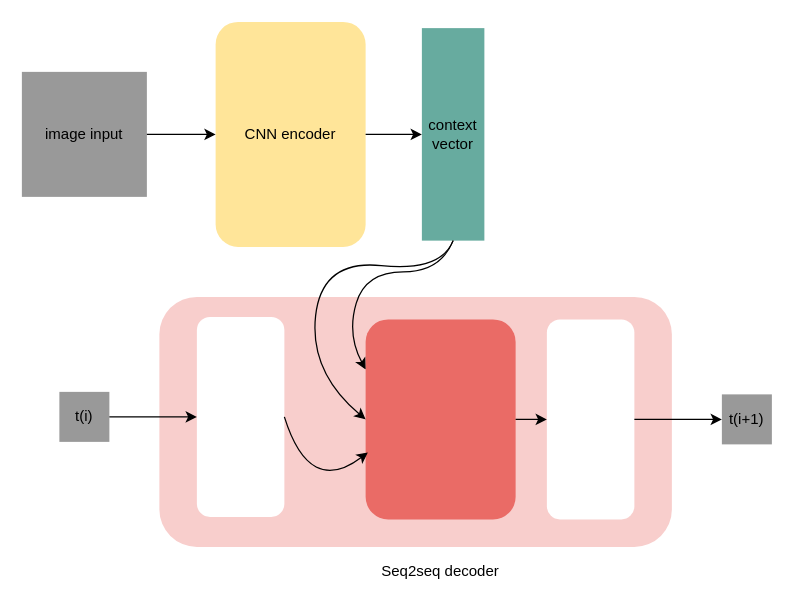
The diagram is 793 pixels wide and 605 high, and some of its shapes have lost their labels. The centre of each missing label's shape, as x and y in pixels:
"Attention (scaled dot-product)" goes at point (440, 419).
"Dense" goes at point (590, 419).
"Embedding & RNN" goes at point (240, 416).
